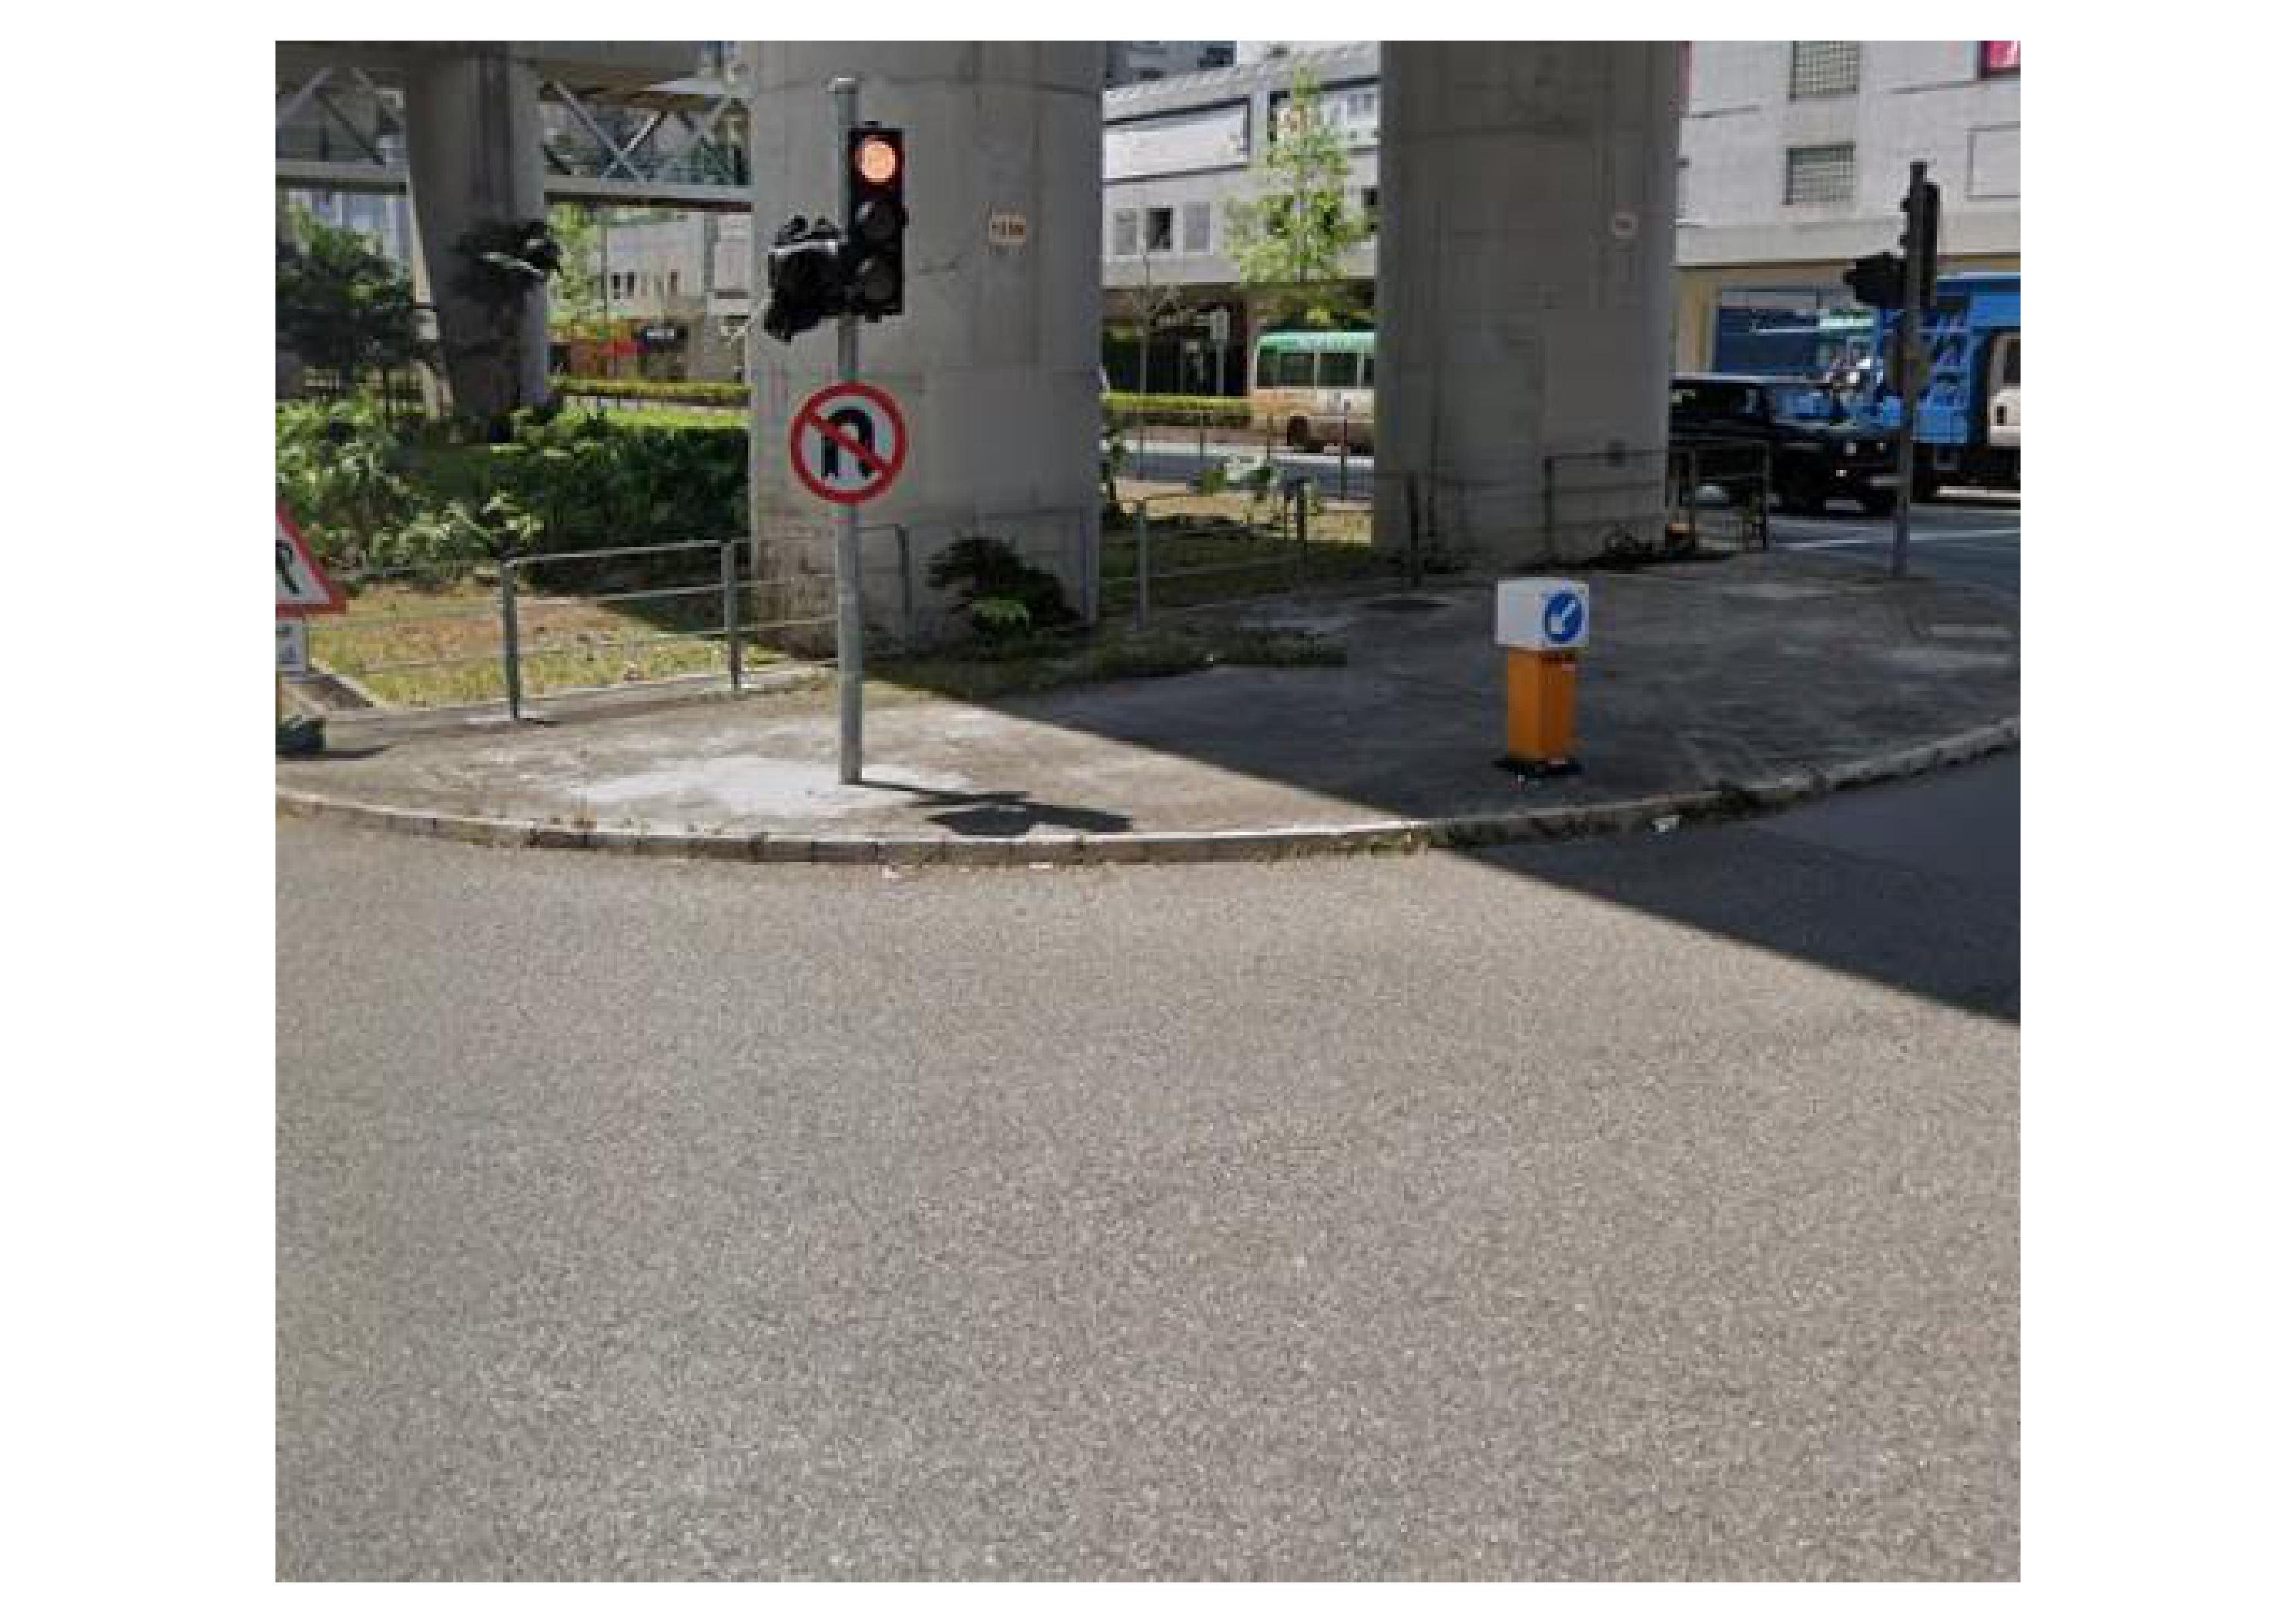No Uturn: (790, 381, 913, 506)
